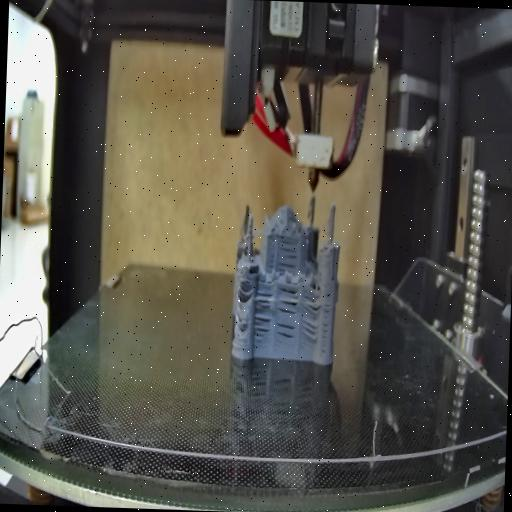cracks: (252, 290, 274, 344), (274, 233, 299, 272), (320, 290, 332, 356), (275, 282, 299, 314), (275, 320, 294, 342), (304, 287, 321, 311), (302, 316, 318, 340), (234, 311, 250, 335), (236, 280, 252, 302)
